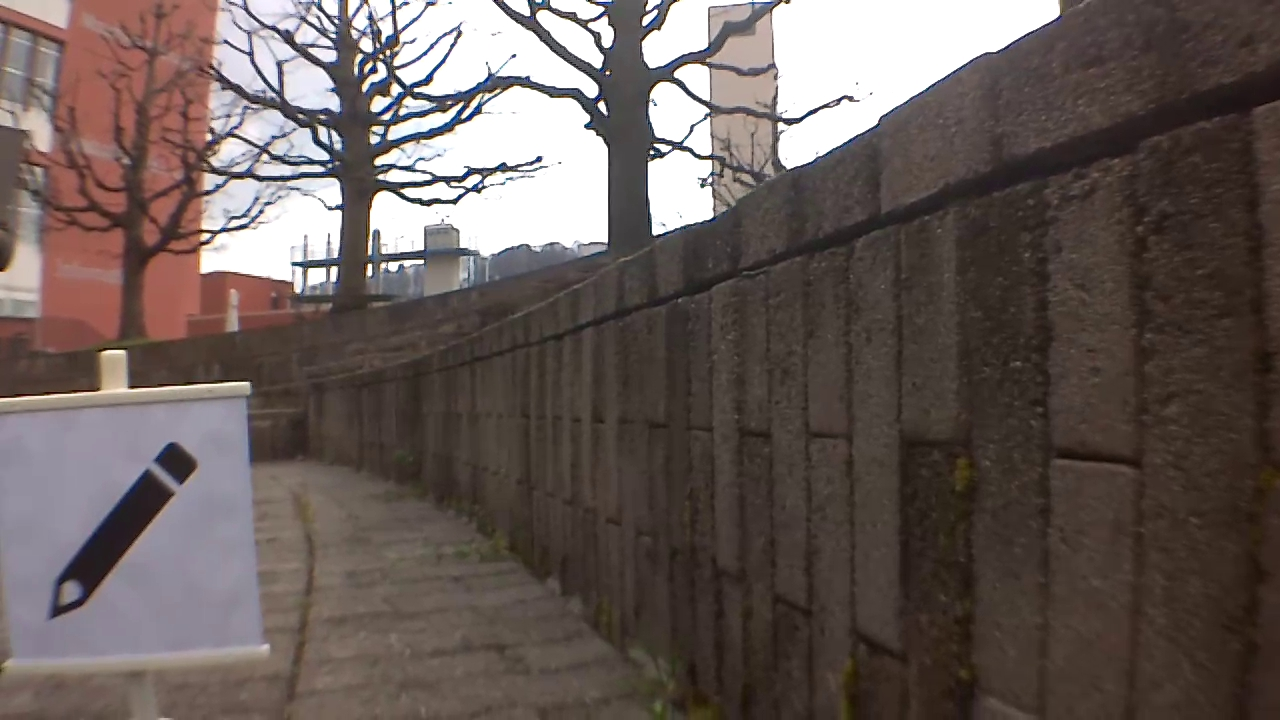pencil: (47, 440, 201, 621)
